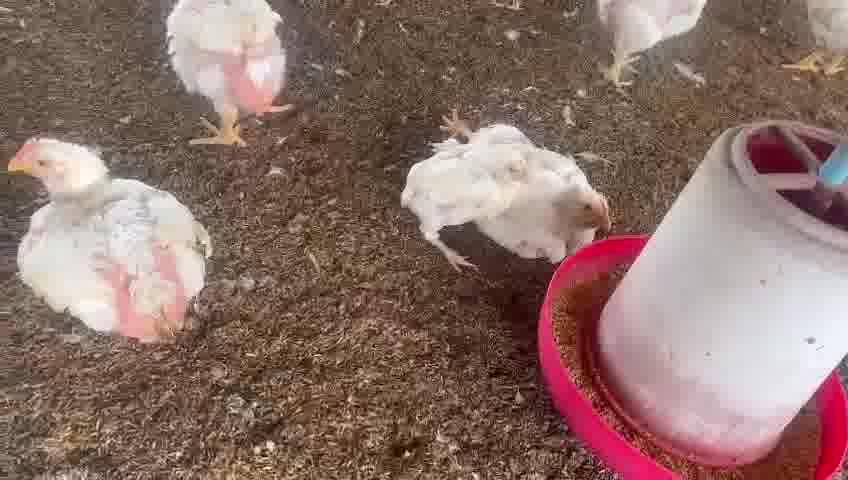AbNormal: (442, 119, 612, 253), (410, 150, 504, 269)
Normal: (8, 124, 211, 340), (156, 0, 306, 155), (588, 0, 706, 92)
